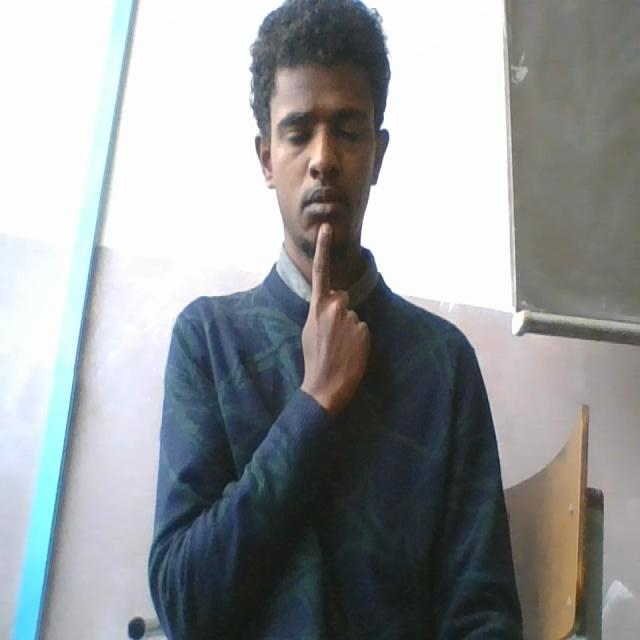lomi: (280, 183, 377, 444)
